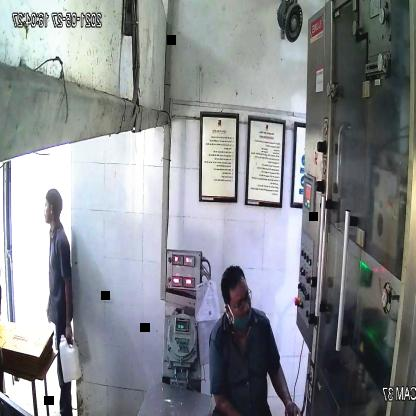goggles: (226, 286, 256, 313)
